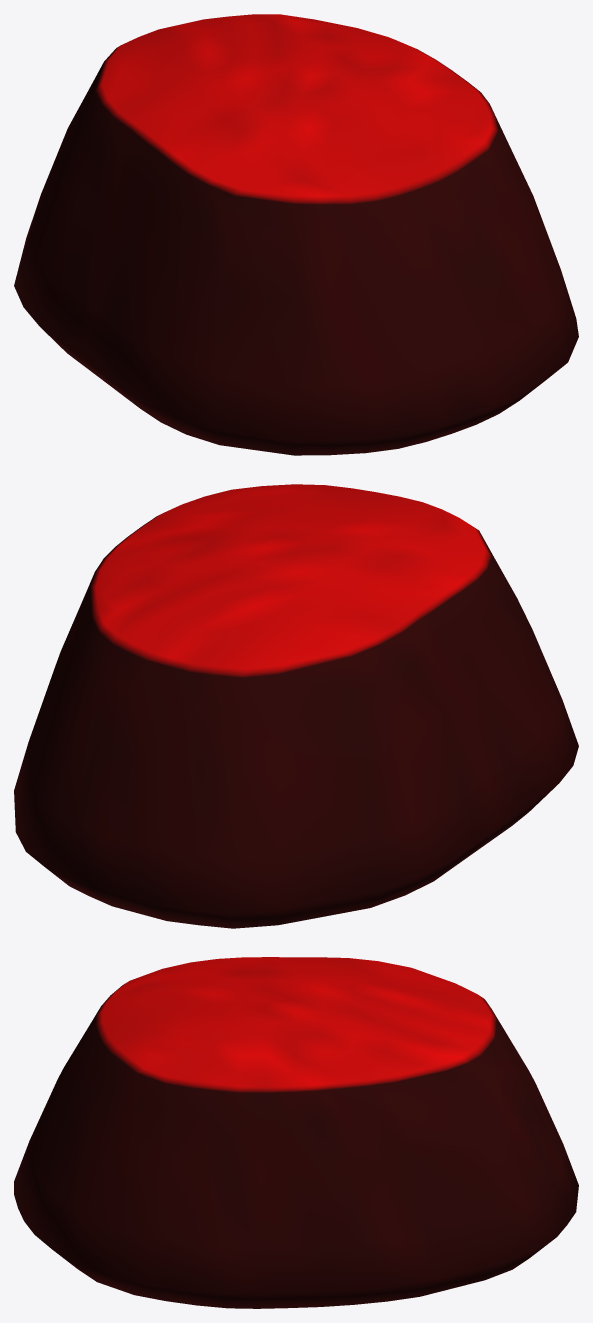
File: geology-landforms-icehilllarge_v1.fbx
The picture shows the model from 3 angles, top to bottom: view 1: azimuth 30°, elevation 25°; view 2: azimuth 150°, elevation 25°; view 3: azimuth 270°, elevation 25°; orthographic projection. The views are drawn at different scales.
Visible parts, largest first — view 1: IceHillLarge_v1; view 2: IceHillLarge_v1; view 3: IceHillLarge_v1.
Part boxes in pixels (left/top/right/bottom): IceHillLarge_v1: left=14, top=14, right=578, bottom=455; IceHillLarge_v1: left=14, top=484, right=578, bottom=928; IceHillLarge_v1: left=14, top=957, right=578, bottom=1308.
Bounding box in the file's own units: 48.04 × 26.92 × 62.08.
